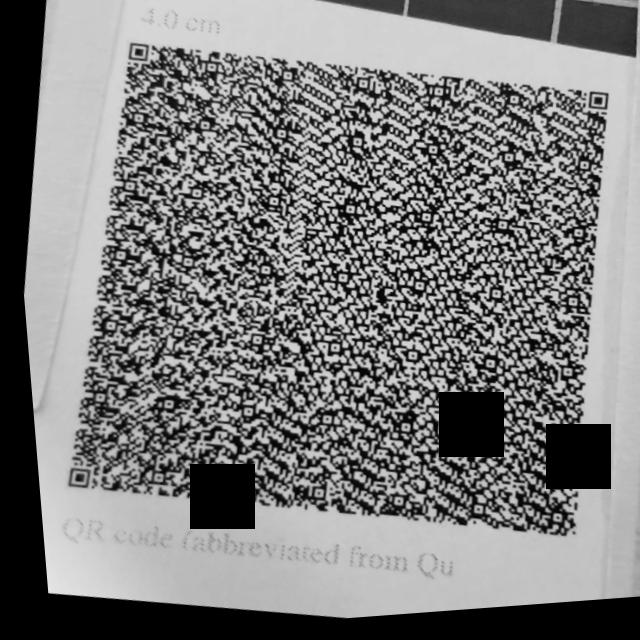QR_CODE: (8, 0, 640, 603)
